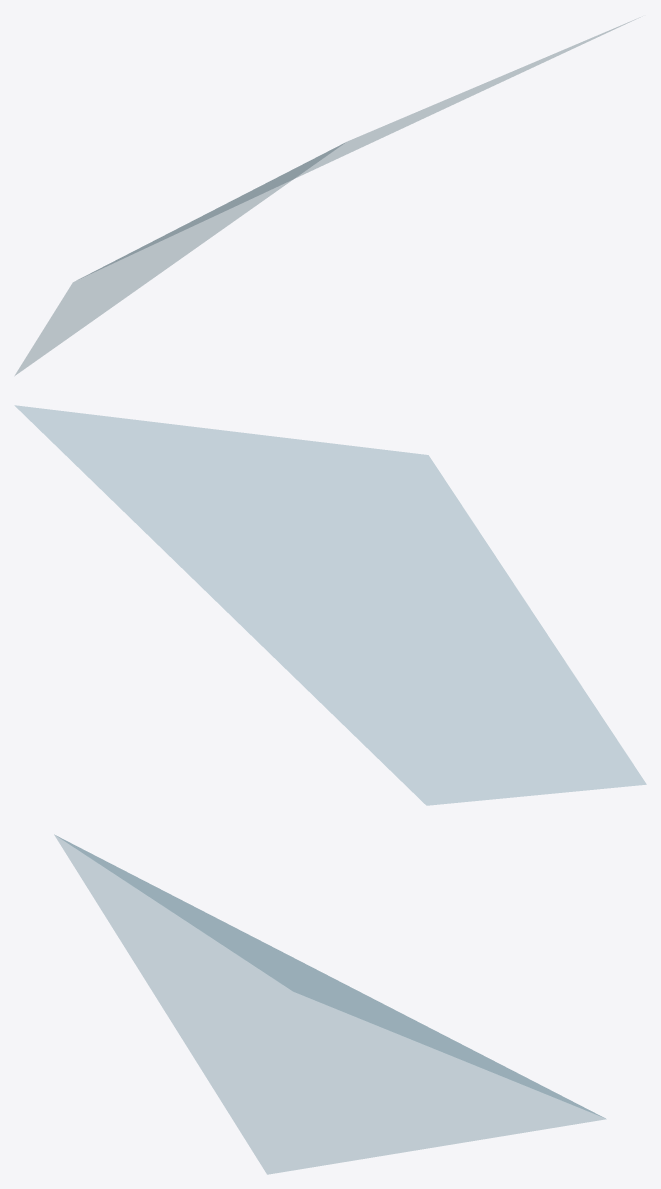
Rendered from CaptainsQuarters_Glass_04.fbx.
3 views of the same model, one above another, from view 1: azimuth 30°, elevation 25°; view 2: azimuth 150°, elevation 25°; view 3: azimuth 270°, elevation 25° (orthographic). The views are drawn at different scales.
Visible parts, largest first — view 1: CaptainsQuarters_Glass_04; view 2: CaptainsQuarters_Glass_04; view 3: CaptainsQuarters_Glass_04.
Part boxes in pixels (x1,y1,x2,y2): CaptainsQuarters_Glass_04: (15, 19, 635, 375); CaptainsQuarters_Glass_04: (15, 405, 646, 805); CaptainsQuarters_Glass_04: (54, 834, 605, 1174).
Size of the model in its own units: 2598 by 848 by 994.
